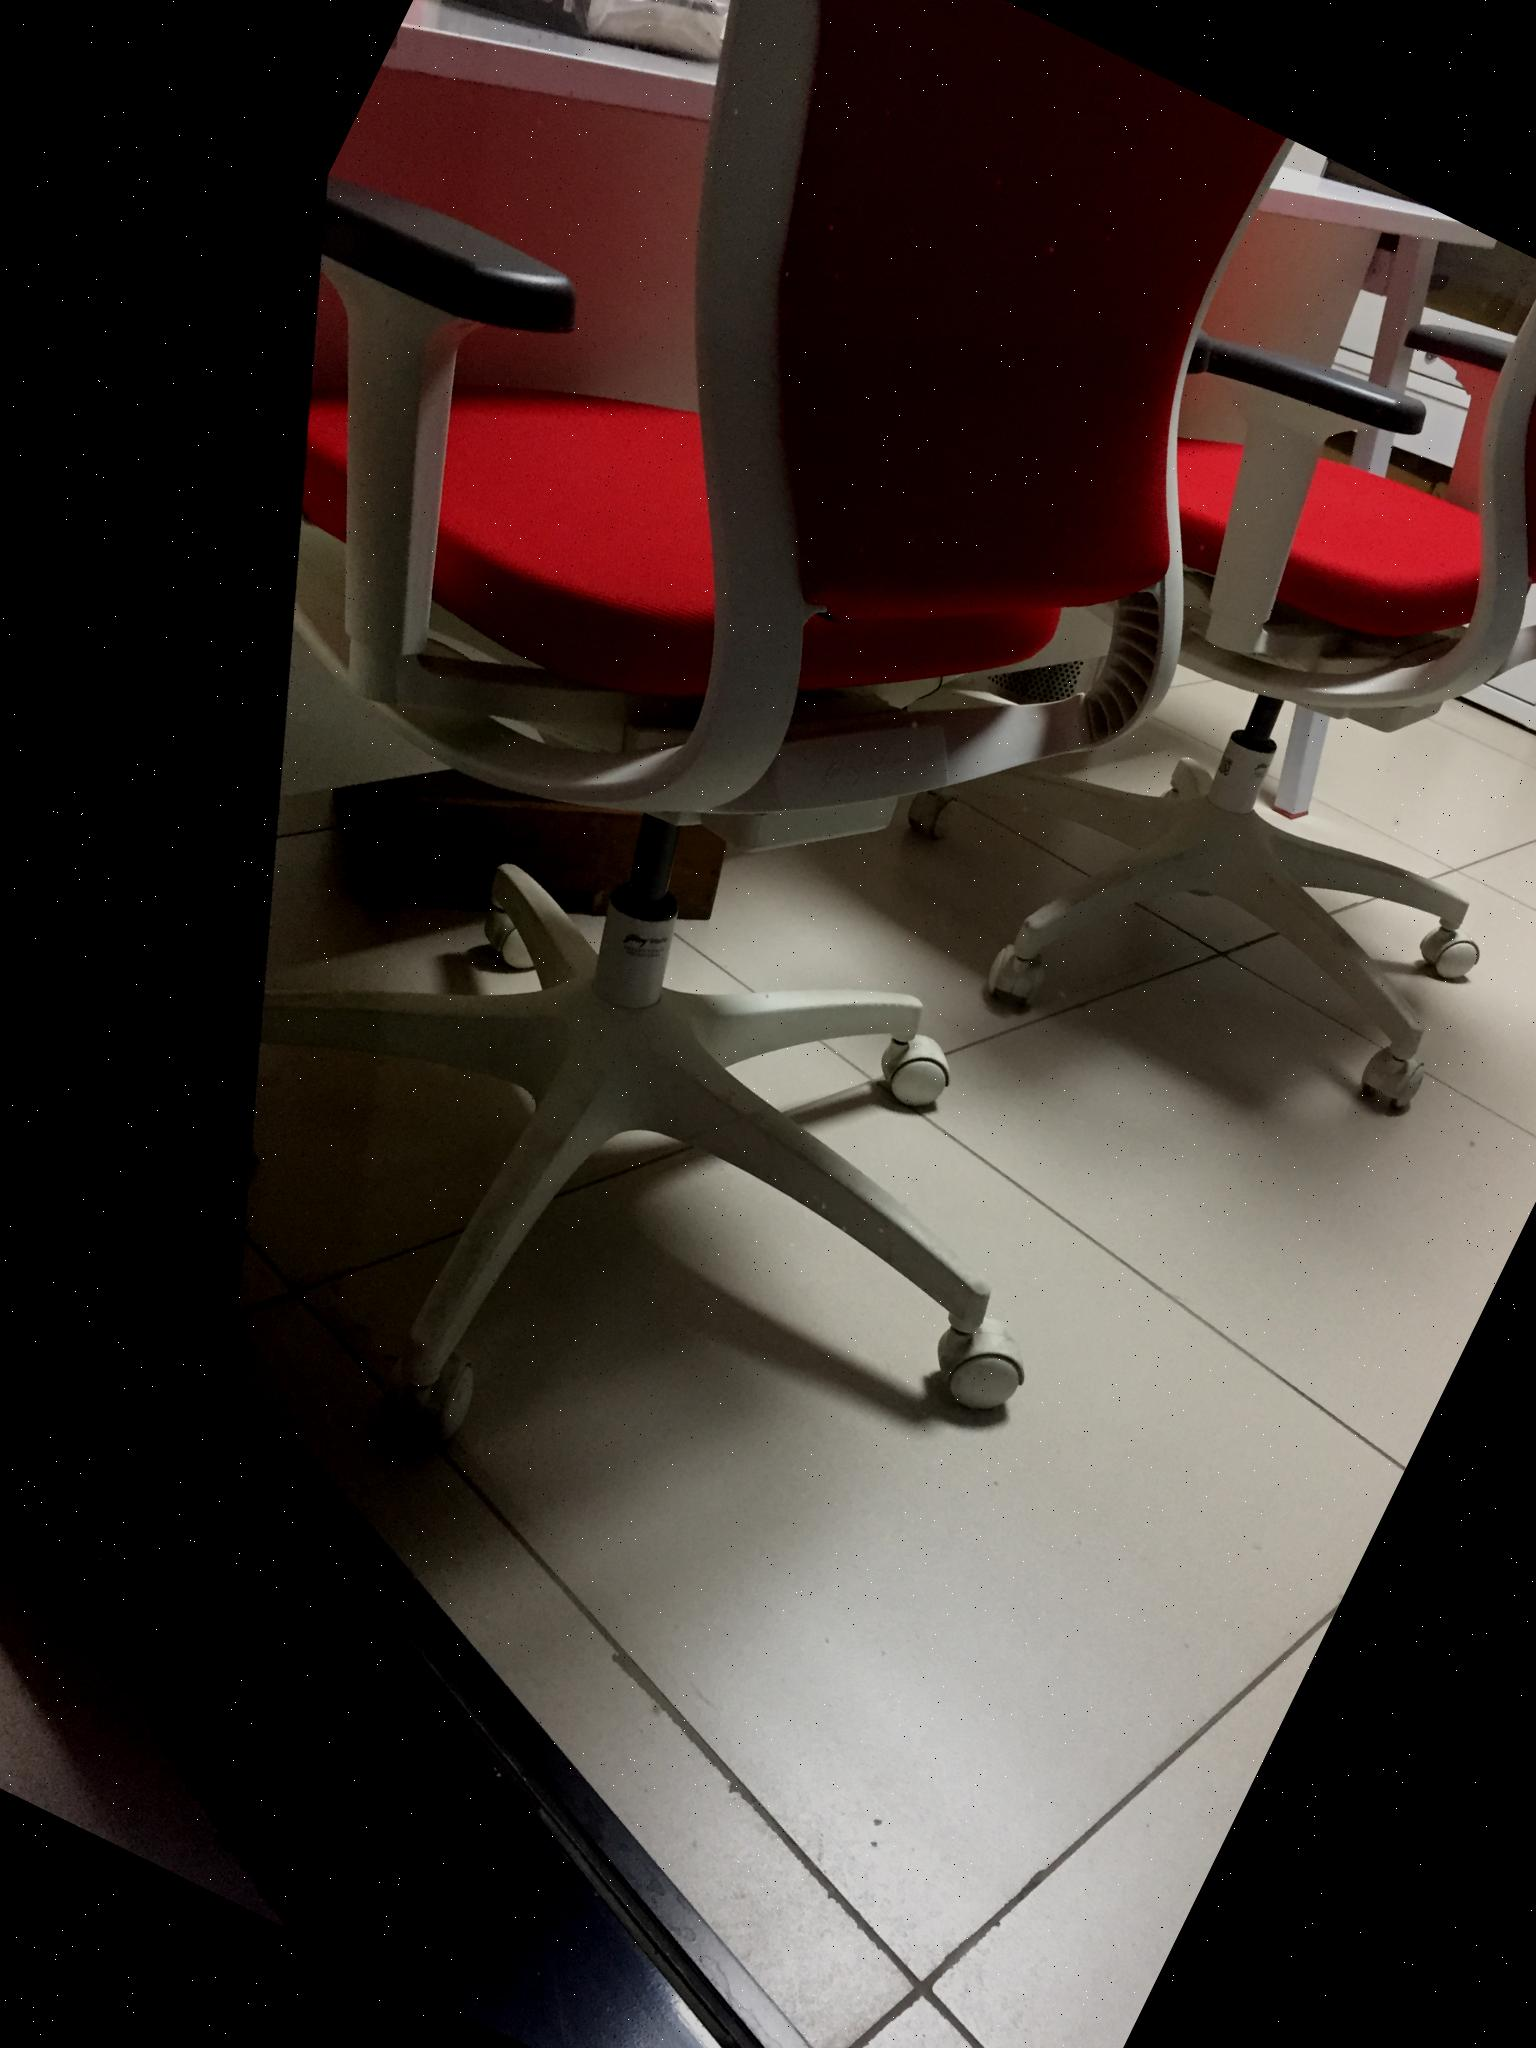chair: (0, 0, 1536, 1671), (849, 118, 1536, 1184)
